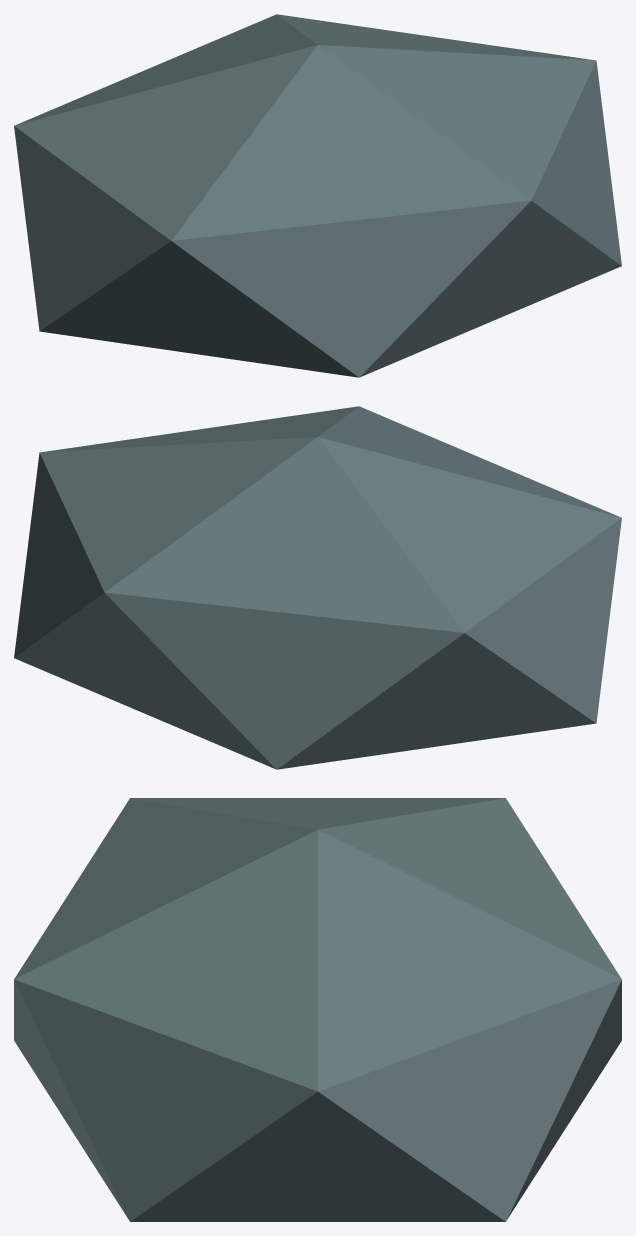
File: bit_stone.glb
3 views of the same model, one above another, from view 1: azimuth 30°, elevation 25°; view 2: azimuth 150°, elevation 25°; view 3: azimuth 270°, elevation 25° (orthographic). The views are drawn at different scales.
Parts seen in each view (by area): view 1: Rock_Mesh; view 2: Rock_Mesh; view 3: Rock_Mesh.
Part boxes in pixels (left/top/right/bottom): Rock_Mesh: left=14, top=14, right=621, bottom=377; Rock_Mesh: left=14, top=406, right=621, bottom=769; Rock_Mesh: left=14, top=798, right=621, bottom=1221.
Size of the model in its own units: 0.24 by 0.09 by 0.19.
